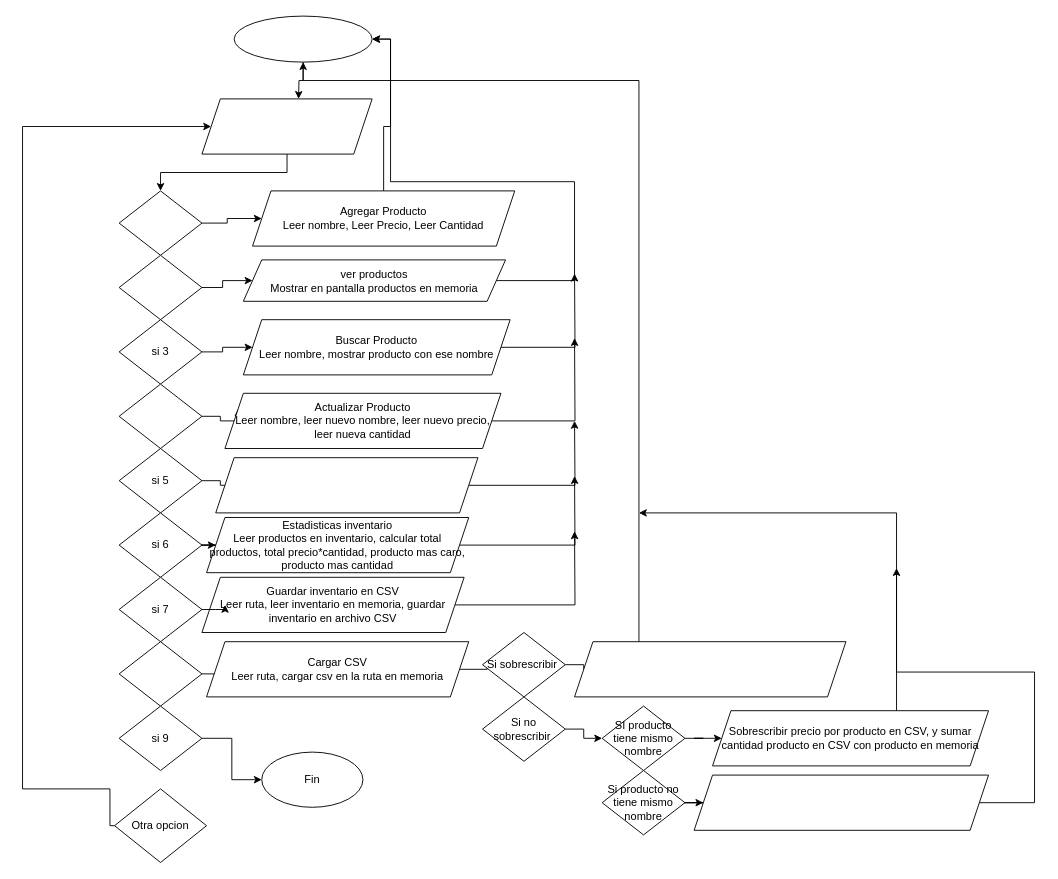
This 1058x879 diagram has some shape labels left out. The centre of each missing label's shape, as x and y in pixels:
"Adicionar producto en CSV al inventario en memoria" belongs at [841,802].
"Eliminar Producto Leer nombre, eliminar producto con nombre" belongs at [346,485].
"Inicio" belongs at [302,38].
"leer opcion entrada" belongs at [286,126].
"si 1" belongs at [160,222].
"si 2" belongs at [160,287].
"si 4" belongs at [160,415].
"si 8" belongs at [160,673].
"Sobrescribir inventario en memoria con inventario cargado de CSV" belongs at [710,669].
